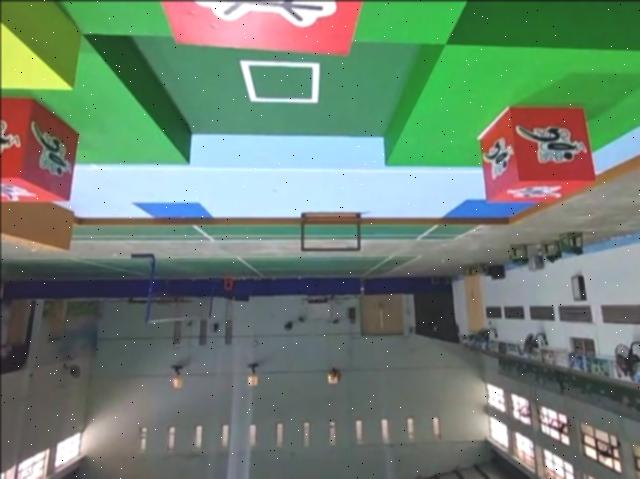R1: (477, 104, 594, 203), (0, 88, 78, 203)
R2 Real: (137, 0, 369, 59)
